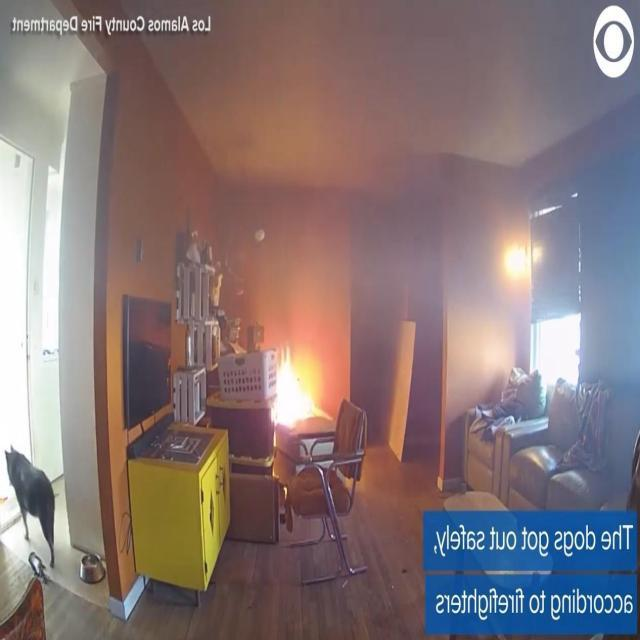smoke: (274, 343, 320, 428)
